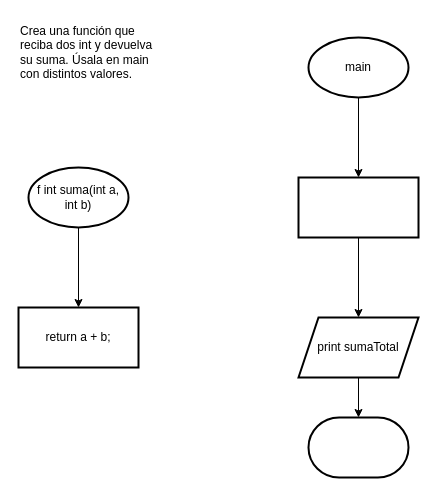
Image size: 436x495. Some labels were removed from this diagram. The shapes that lost their labels are listed below. From the top down, each one's centre as x and y in pixels, then its label:
At point (358, 207): "int sumaTotal = suma(int,int);".
At point (358, 447): "fin".
